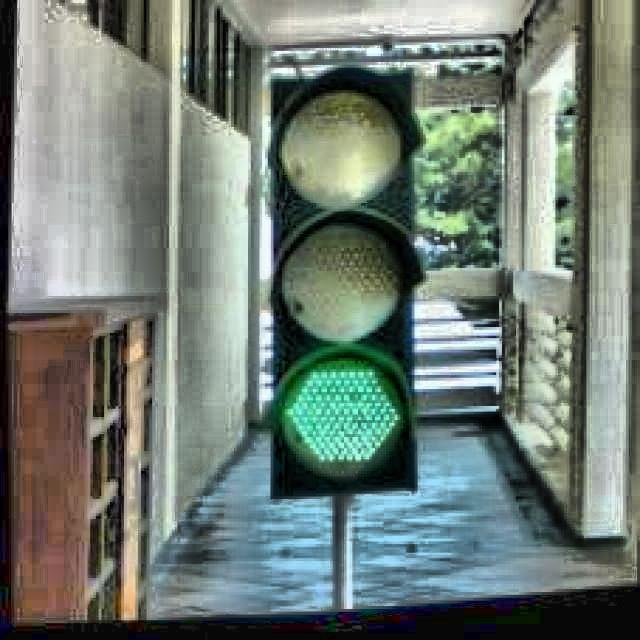green: (271, 75, 421, 496)
